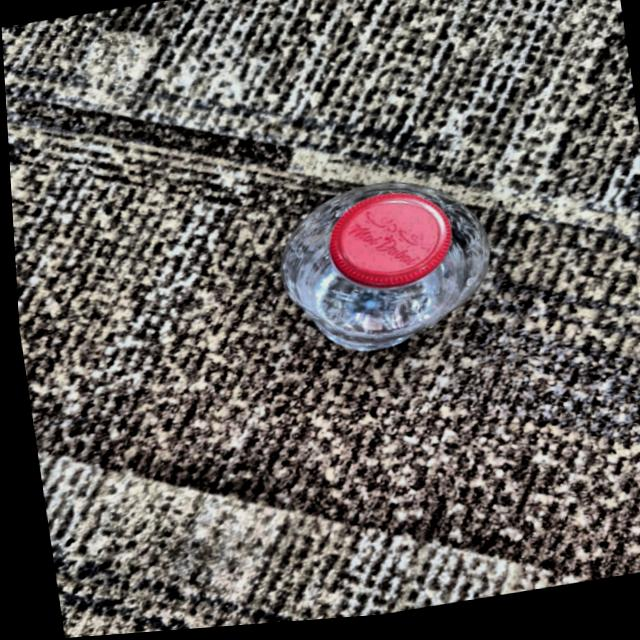Bottles: (225, 134, 519, 420)
